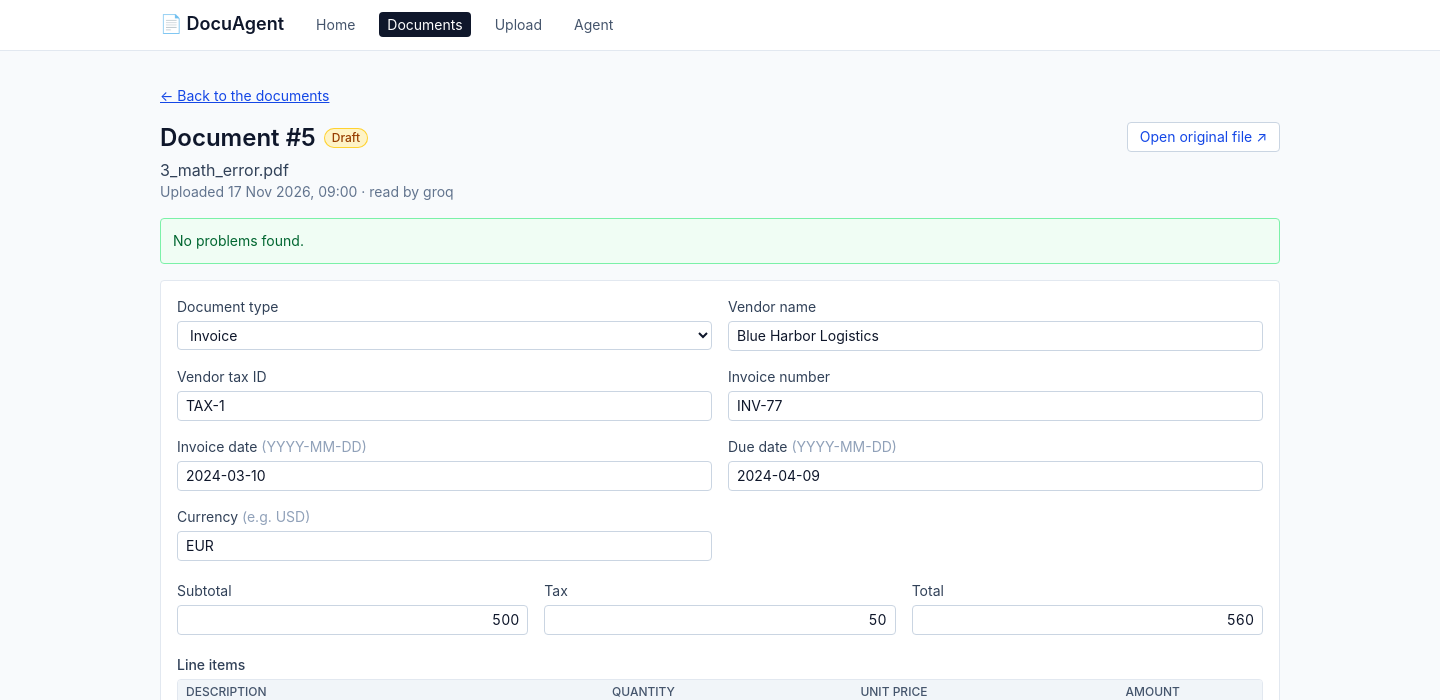
it: Document detail page › leaving with unsaved edits › the browser warns before closing or reloading the tab only while there are unsaved edits
This screenshot has width=1440, height=700.
Check: the heading "Document #5 Draft" is shown, box [160,123,368,152]
Clear the field labelled "Vendor name": (996, 336) [728,321,1263,351]
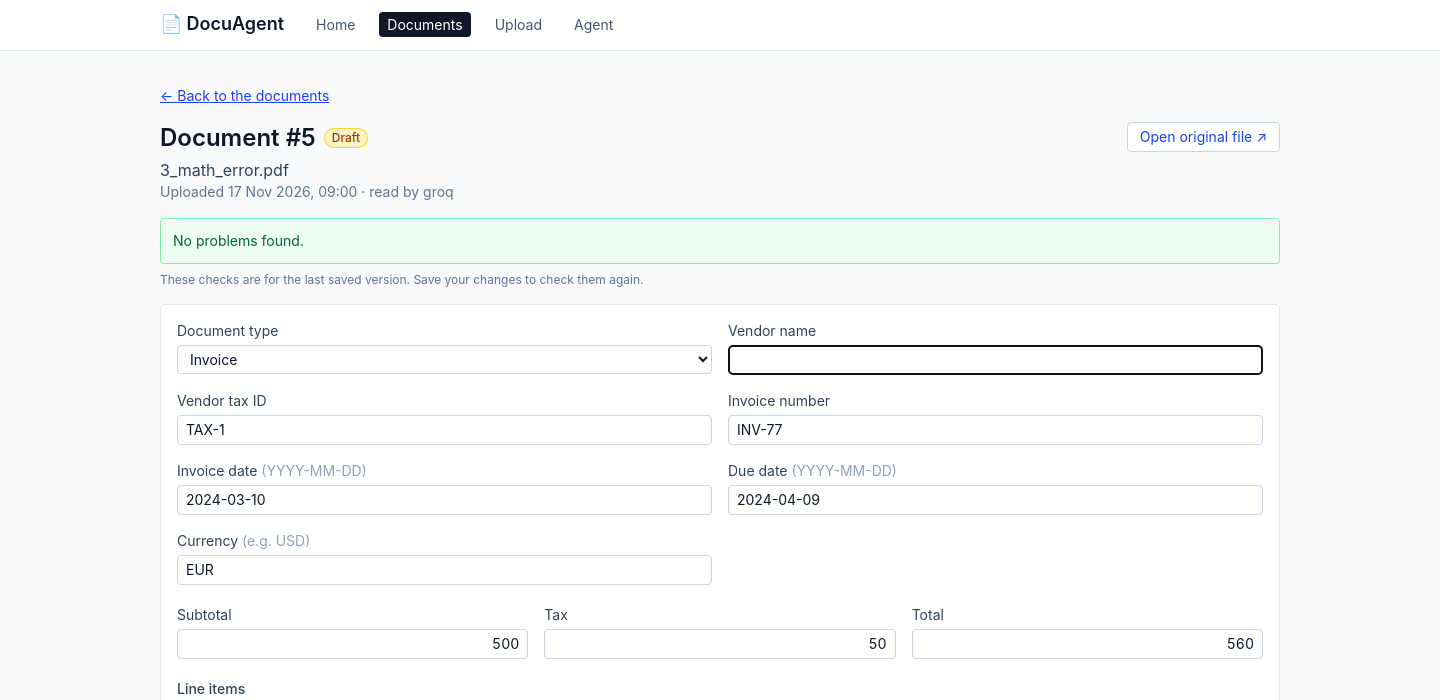
In the field labelled "Vendor name": (996, 360) [728,345,1263,375], type "Changed"
(page scrolled)
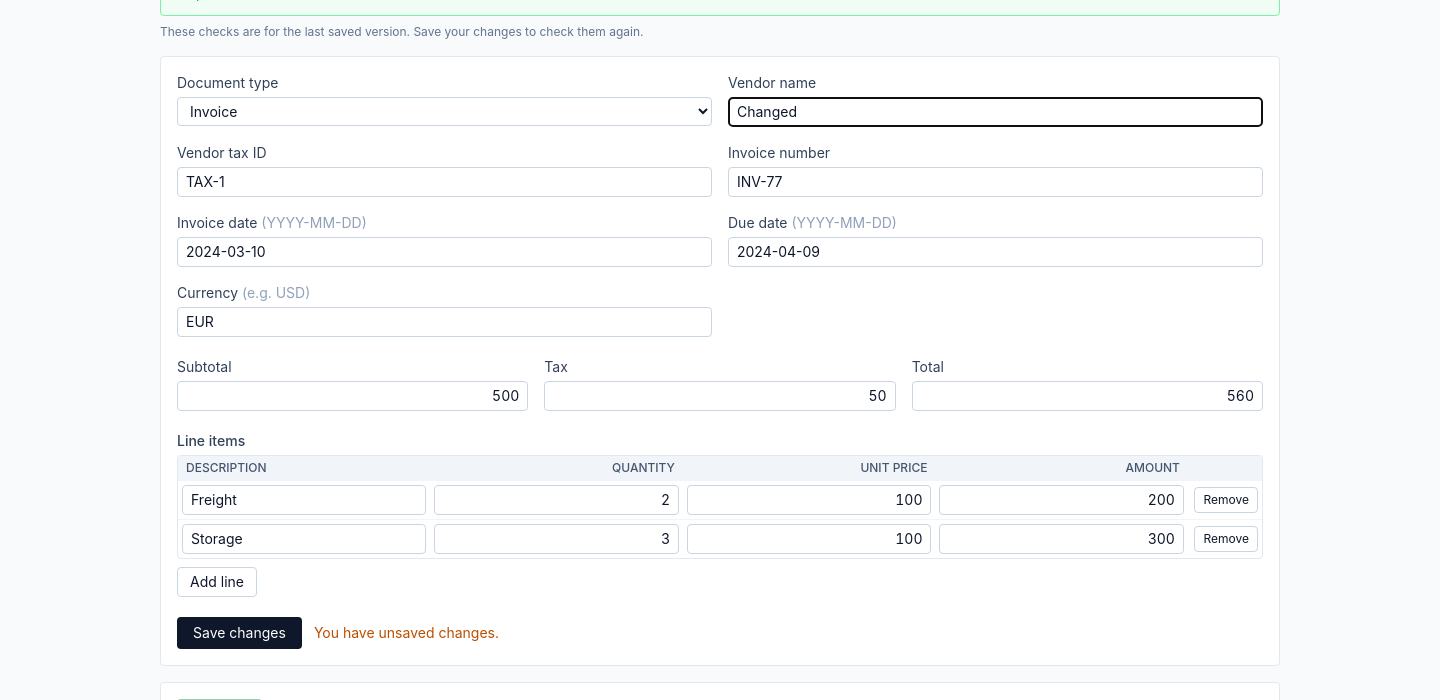
Click the button "Save changes": click(239, 633) [177,617,302,649]
(page scrolled)
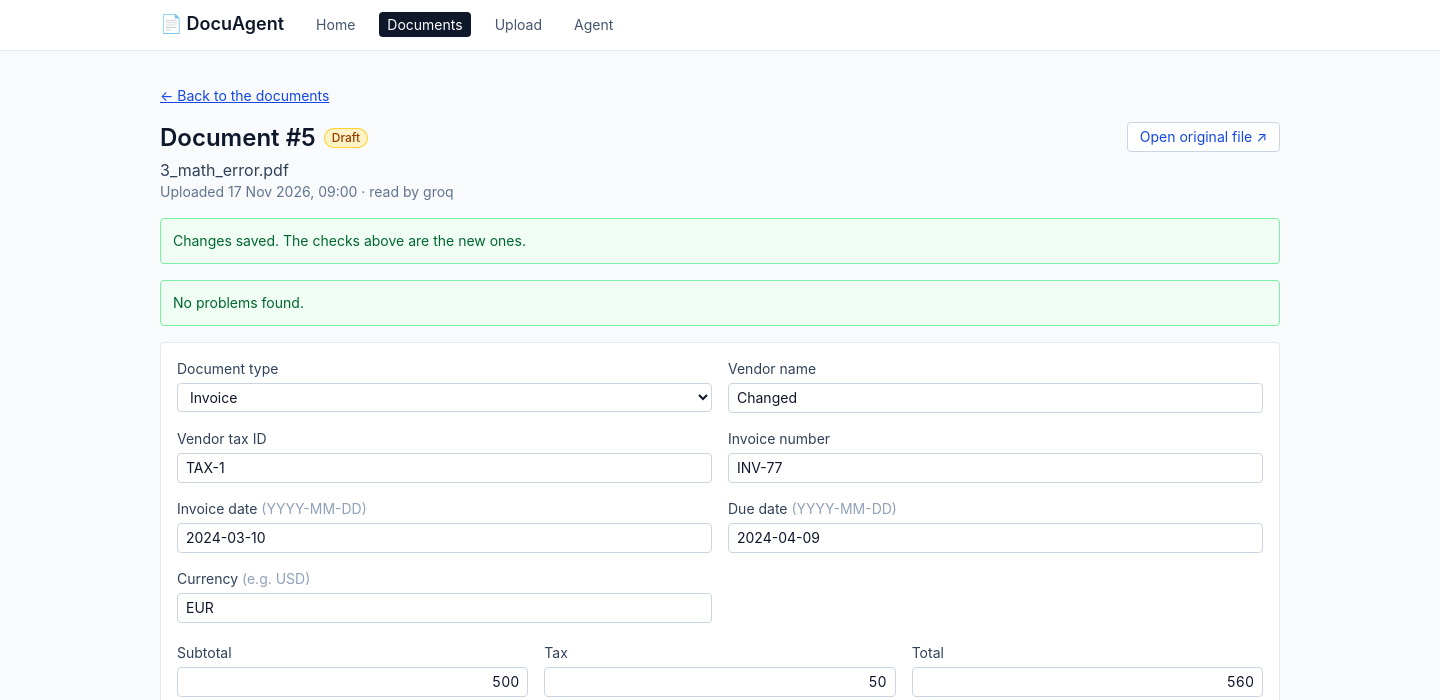
Check: the text "Changes saved. The checks above are the new ones." is shown, box [160,218,1280,264]
